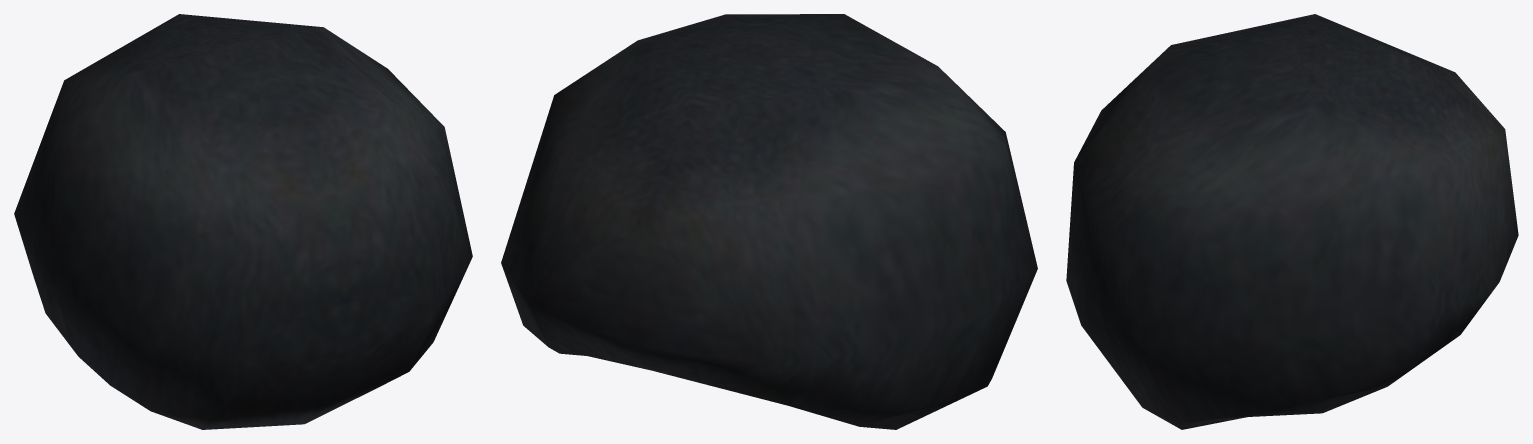
Rendered from afro.glb.
The picture shows the model from 3 angles, left to right: view 1: azimuth 30°, elevation 25°; view 2: azimuth 150°, elevation 25°; view 3: azimuth 270°, elevation 25°; orthographic projection. The views are drawn at different scales.
Visible parts, largest first — view 1: afro; view 2: afro; view 3: afro.
Part boxes in pixels (<box>): afro: <box>14,14,472,429</box>; afro: <box>501,14,1037,429</box>; afro: <box>1066,14,1518,429</box>.
Bounding box in the file's own units: 0.3639 × 0.3013 × 0.3576.
1 material, 1 textured.
